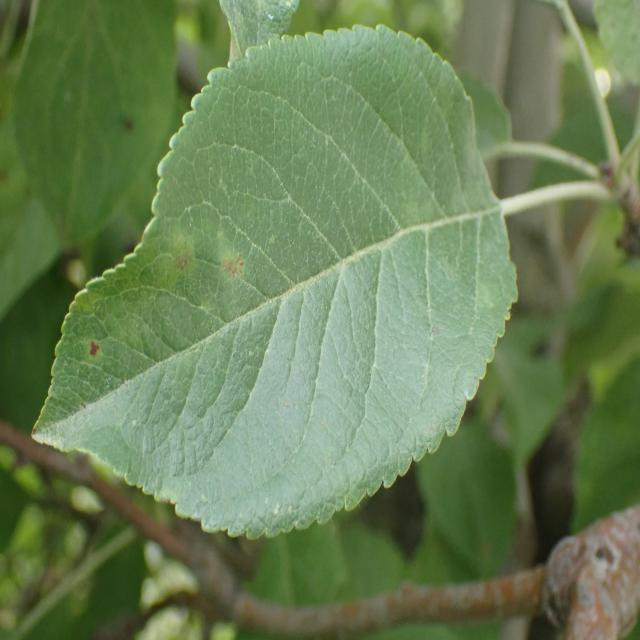diseased: (33, 28, 514, 542)
